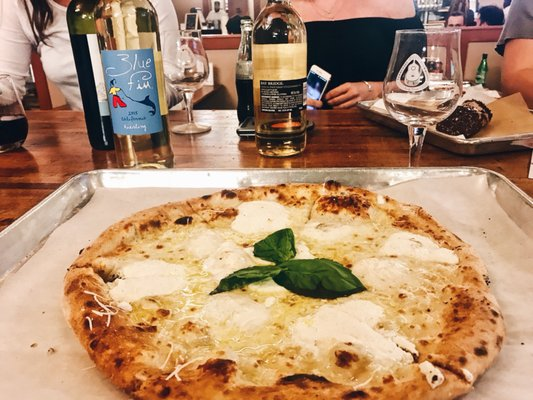sandwich: (0, 170, 96, 288)
